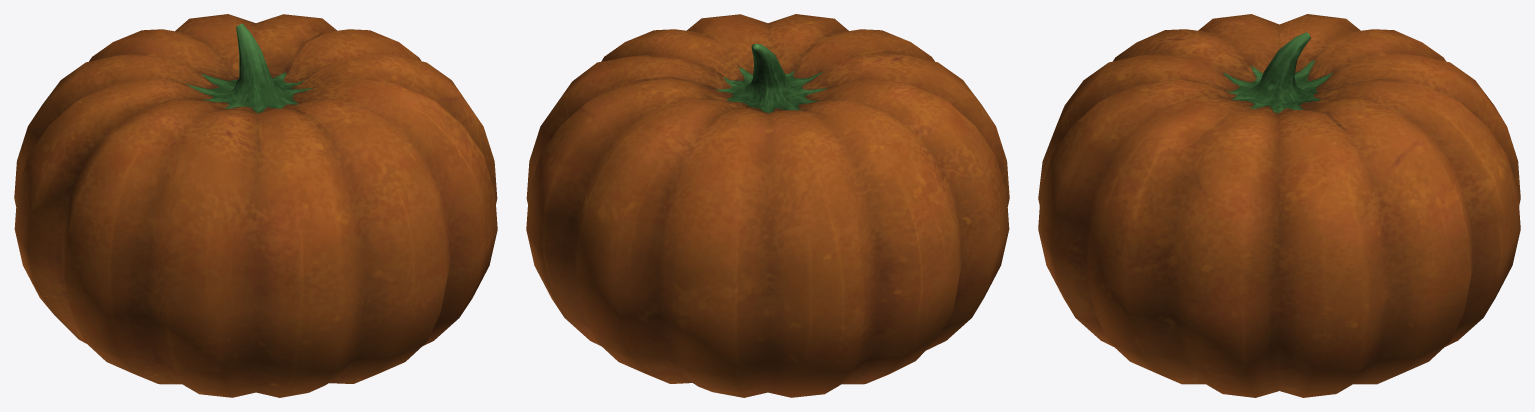
The model's file is SM_Farm_Pumpkin_01.fbx.
3 views of the same model, side by side, from view 1: azimuth 30°, elevation 25°; view 2: azimuth 150°, elevation 25°; view 3: azimuth 270°, elevation 25° (orthographic).
Parts seen in each view (by area): view 1: SM_Farm_Pumpkin_01_LOD0; view 2: SM_Farm_Pumpkin_01_LOD0; view 3: SM_Farm_Pumpkin_01_LOD0.
Boxes of the visible parts, left/top/right/bottom form: SM_Farm_Pumpkin_01_LOD0: left=14, top=14, right=497, bottom=397; SM_Farm_Pumpkin_01_LOD0: left=526, top=14, right=1009, bottom=397; SM_Farm_Pumpkin_01_LOD0: left=1038, top=14, right=1520, bottom=397.
Size of the model in its own units: 70.24 by 50.45 by 70.15.
